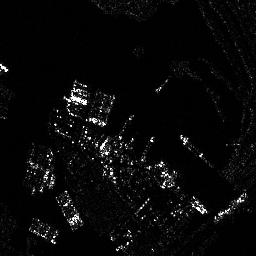ship: (176, 133, 205, 159)
